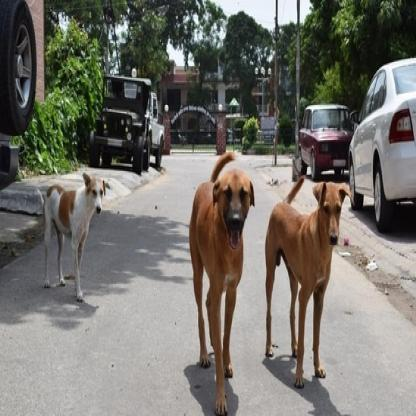dog: (182, 151, 258, 406), (267, 182, 338, 376), (44, 162, 104, 302)
